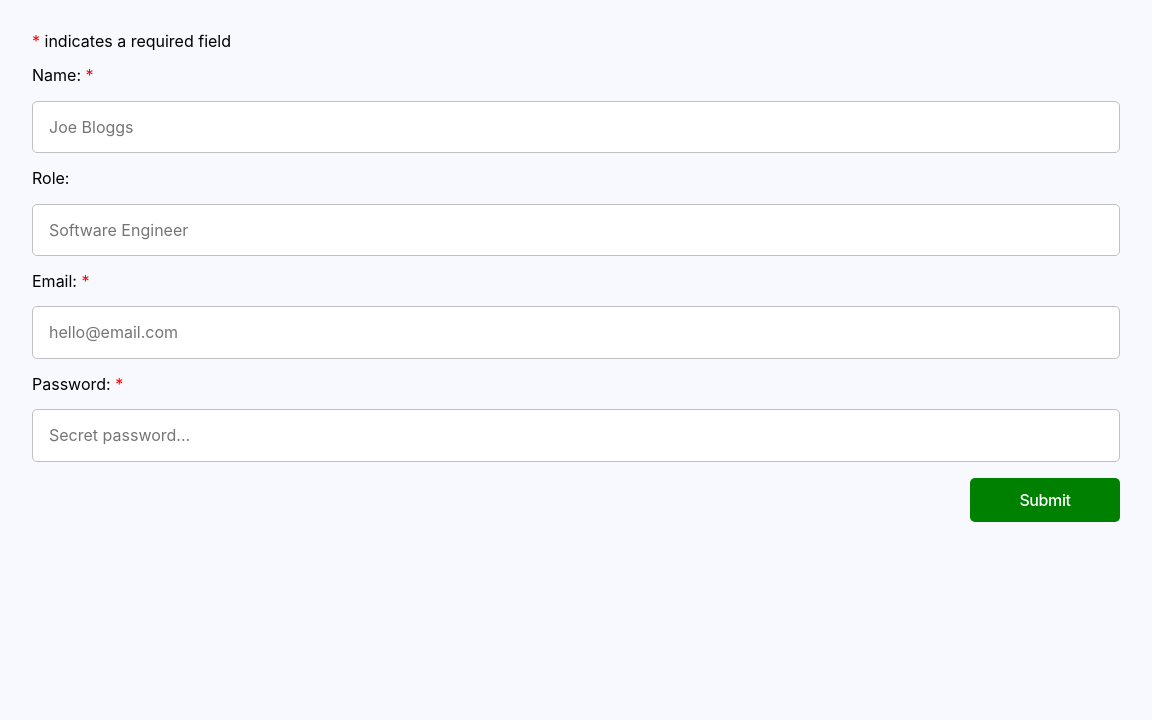
Test: SignUpForm component › should block progress if no password
Type "Dan" into the field with test id "signUpNameInput" at (576, 127), box [32, 101, 1120, 153]
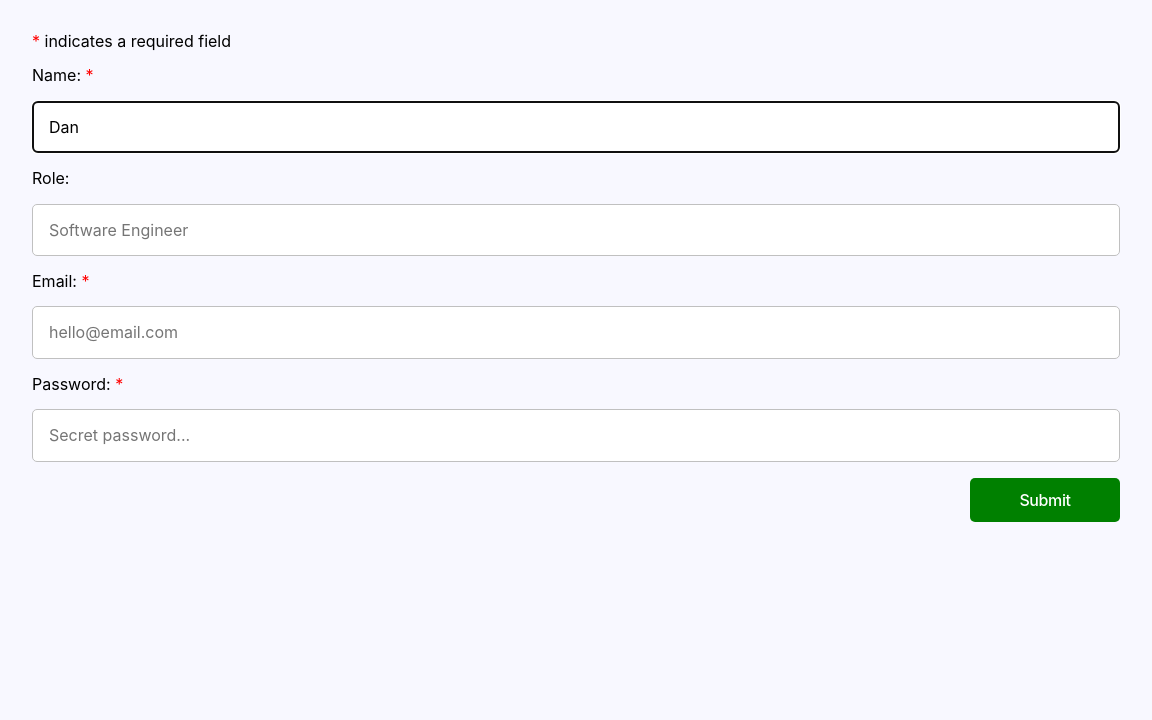
Type "dan@mail.com" into the field with test id "signUpEmailInput" at (576, 332), box [32, 306, 1120, 359]
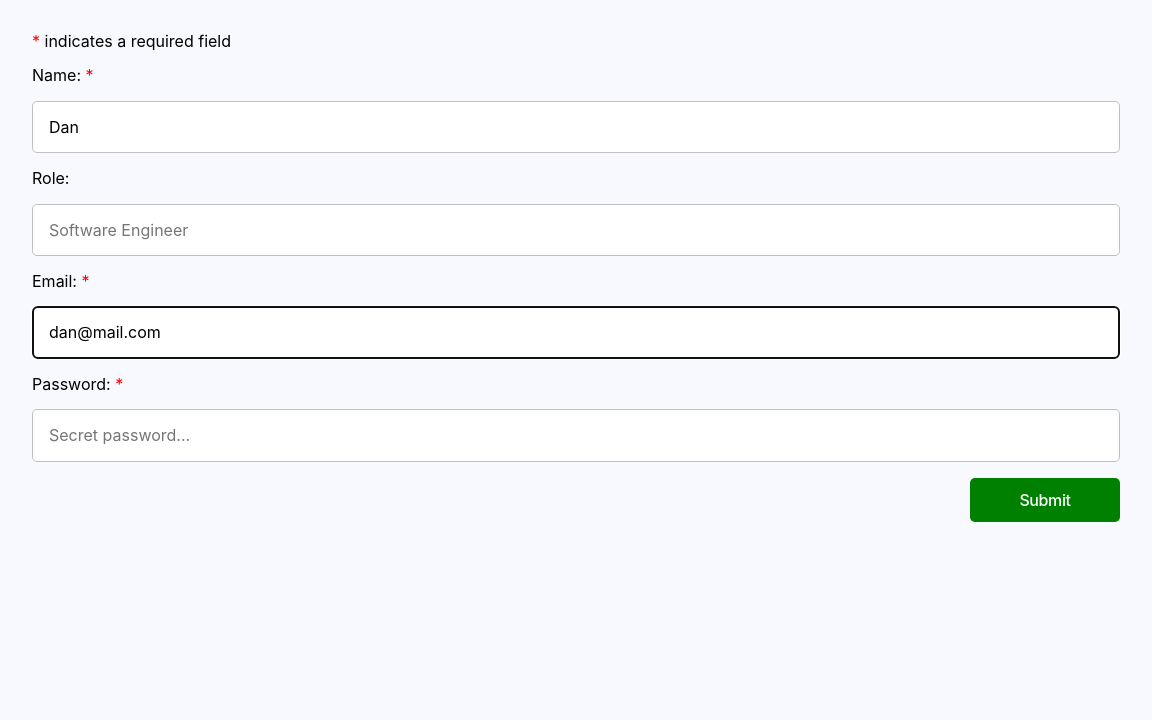
Click the button with test id "signUpSubmitButton" at (1045, 500), box [970, 478, 1120, 522]
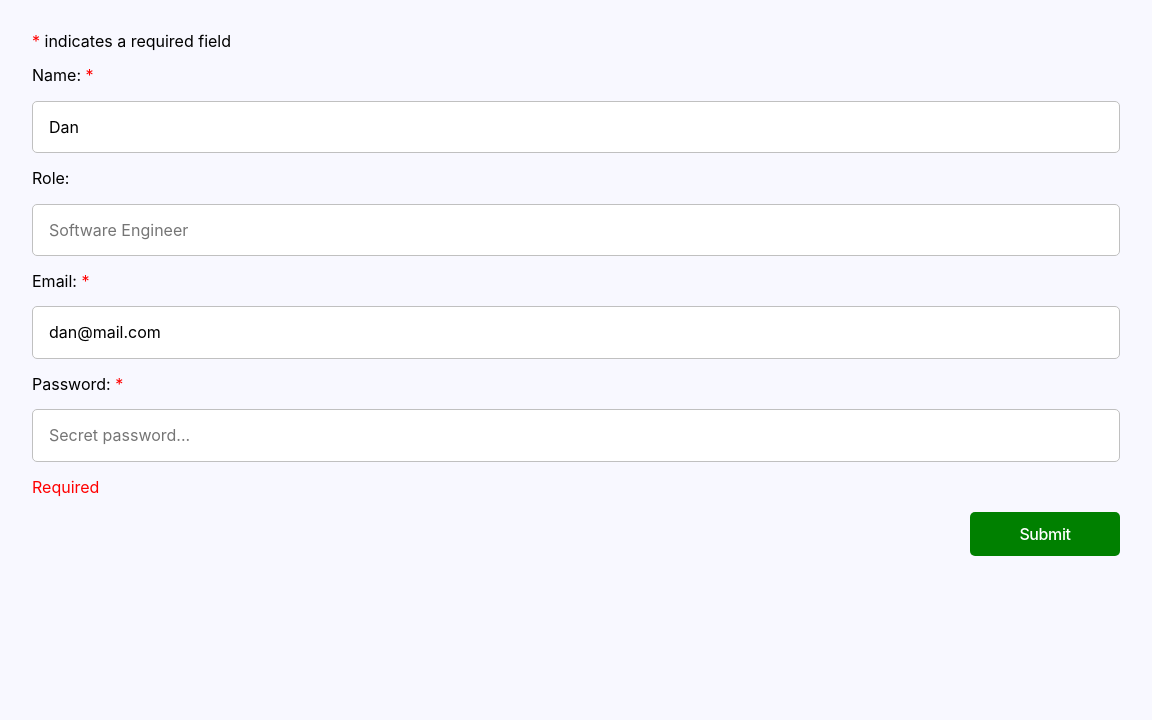
Result: the text "Required" is shown at [32, 476, 99, 496]
